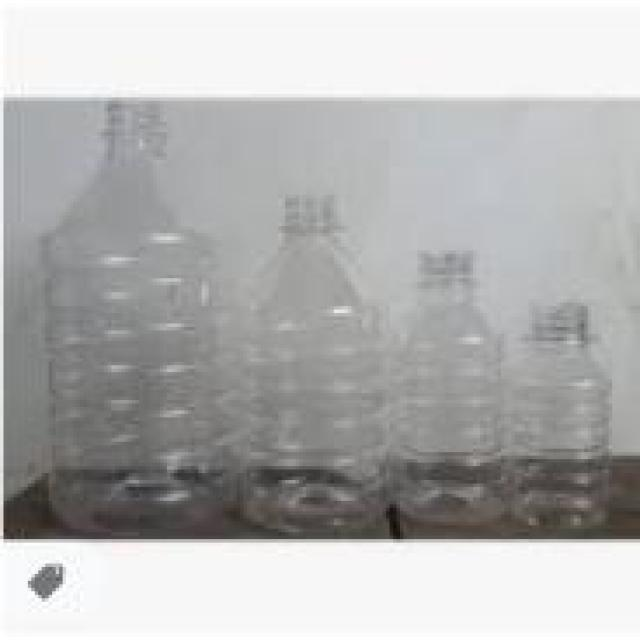bottle: (38, 101, 247, 529), (222, 188, 396, 532), (379, 244, 518, 528), (494, 296, 616, 539)
